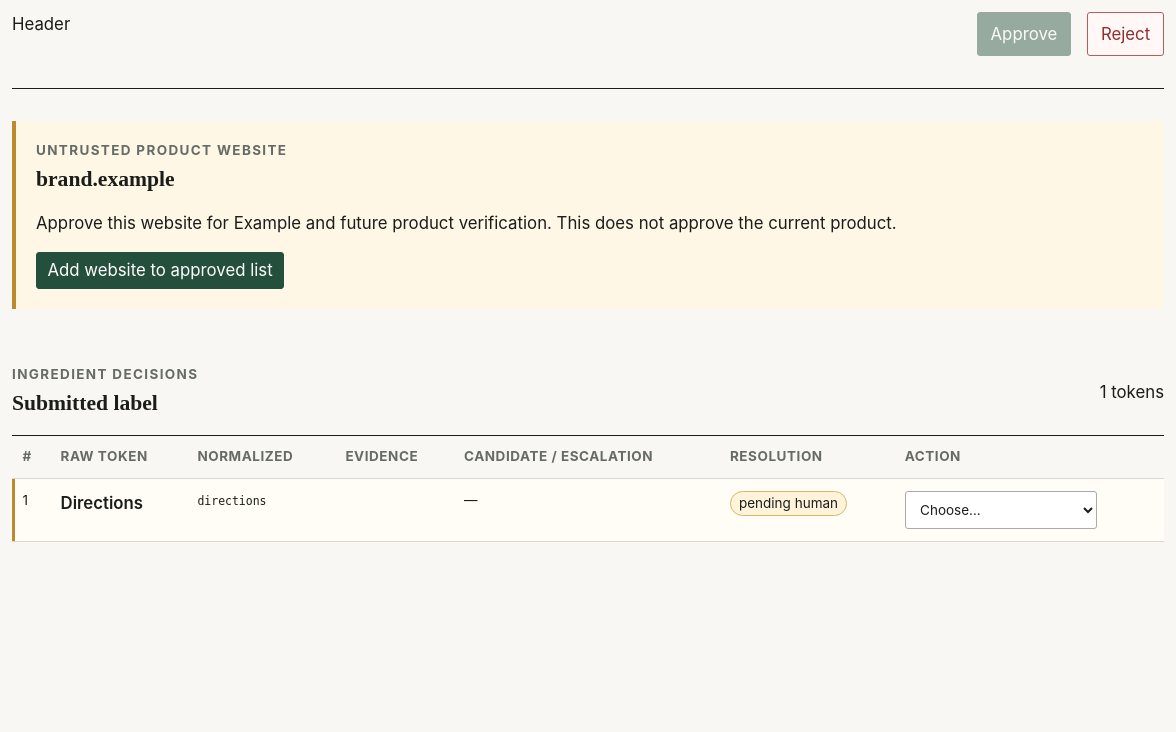
Test case: ReviewWorkbench token controls › adds the verified website to the brand allowlist without approving the product
Step 1. Click the button "Add website to approved list" → point(160, 271), box [36,252,284,289]
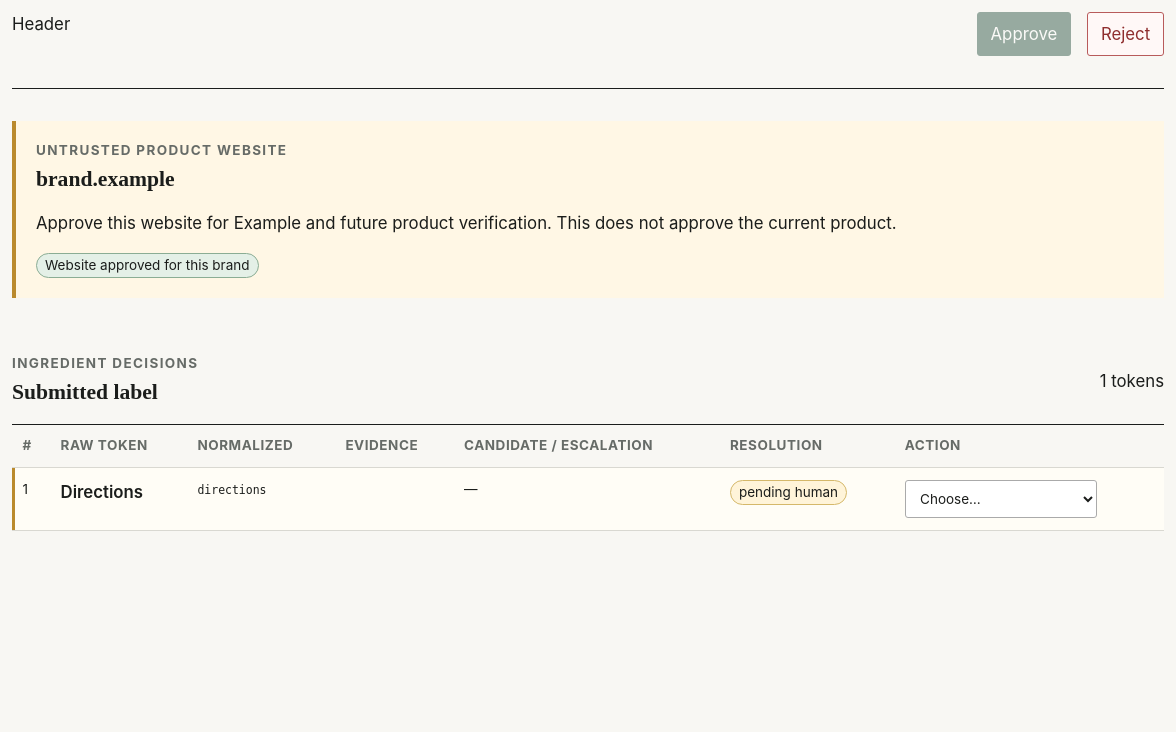
Check: the text "Website approved for this brand" is shown, box [36,253,258,278]
